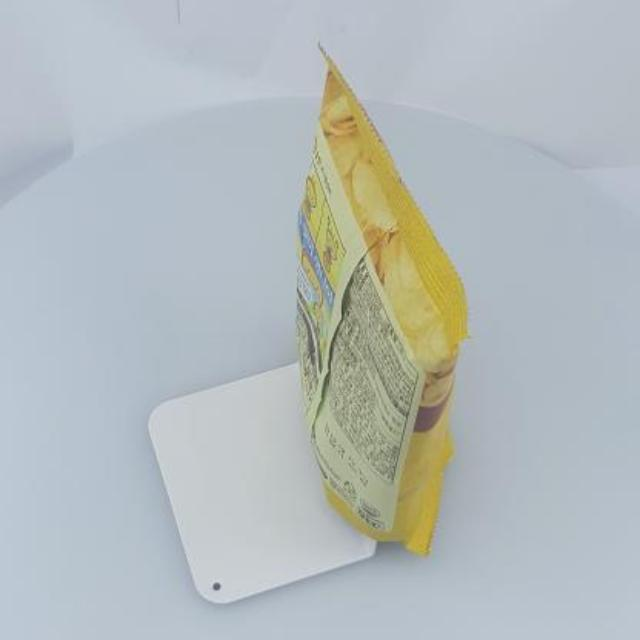snack_bag: (273, 28, 517, 564)
